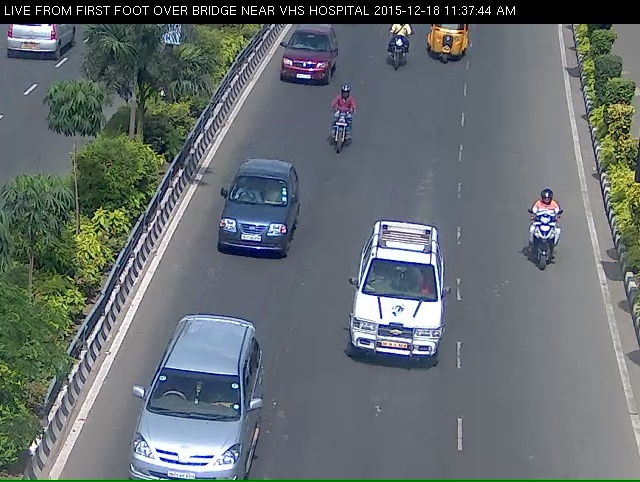Auto: (425, 19, 473, 71)
Car: (320, 241, 477, 402), (120, 342, 265, 479), (215, 173, 290, 278), (262, 29, 352, 97)
Person: (521, 188, 575, 295), (327, 96, 357, 176), (383, 28, 414, 85)
